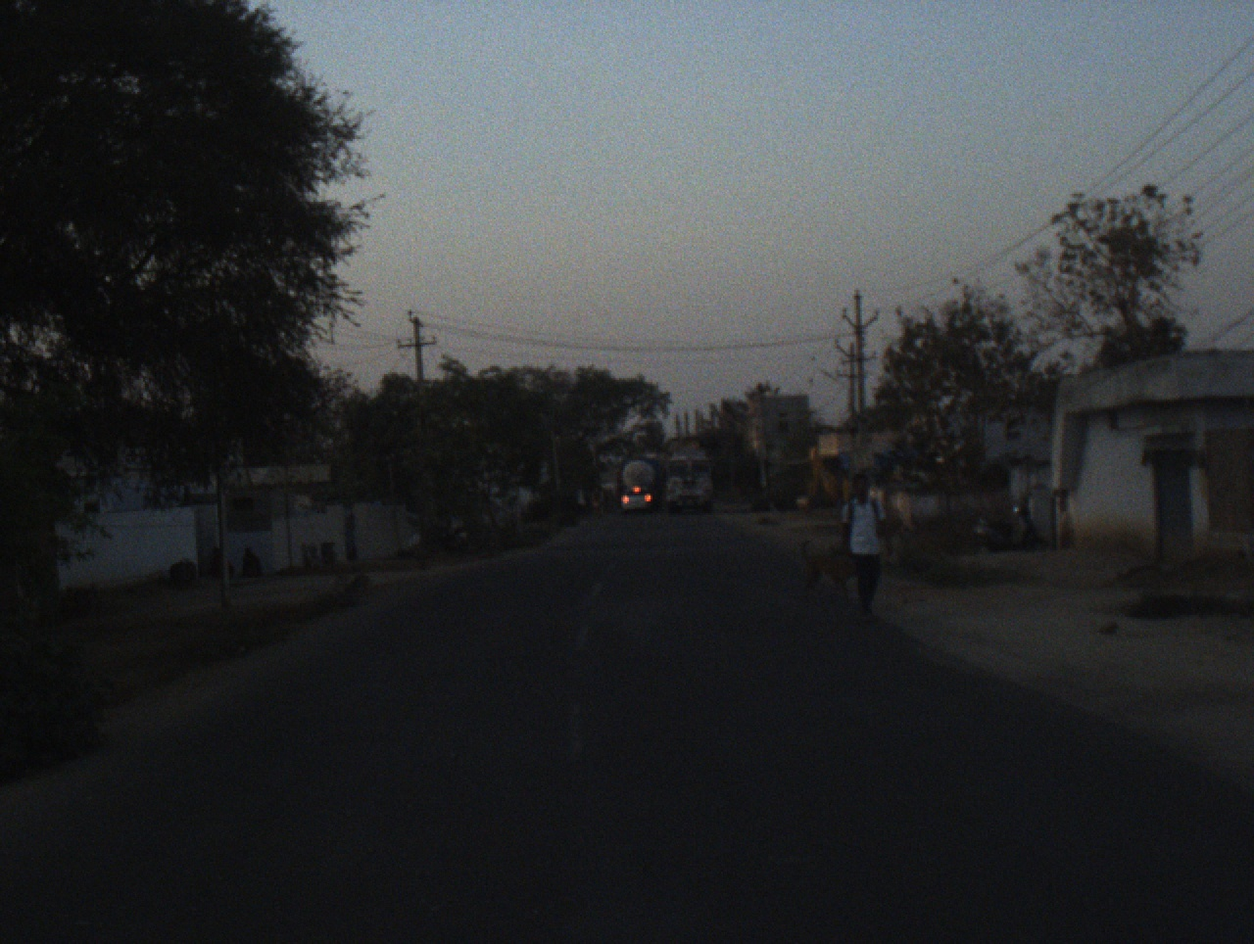animal: (798, 542, 866, 597)
car: (620, 488, 653, 510)
motorcycle: (972, 502, 1045, 552), (424, 517, 471, 559)
person: (839, 466, 894, 616)
truck: (663, 436, 719, 516), (613, 452, 663, 513)
